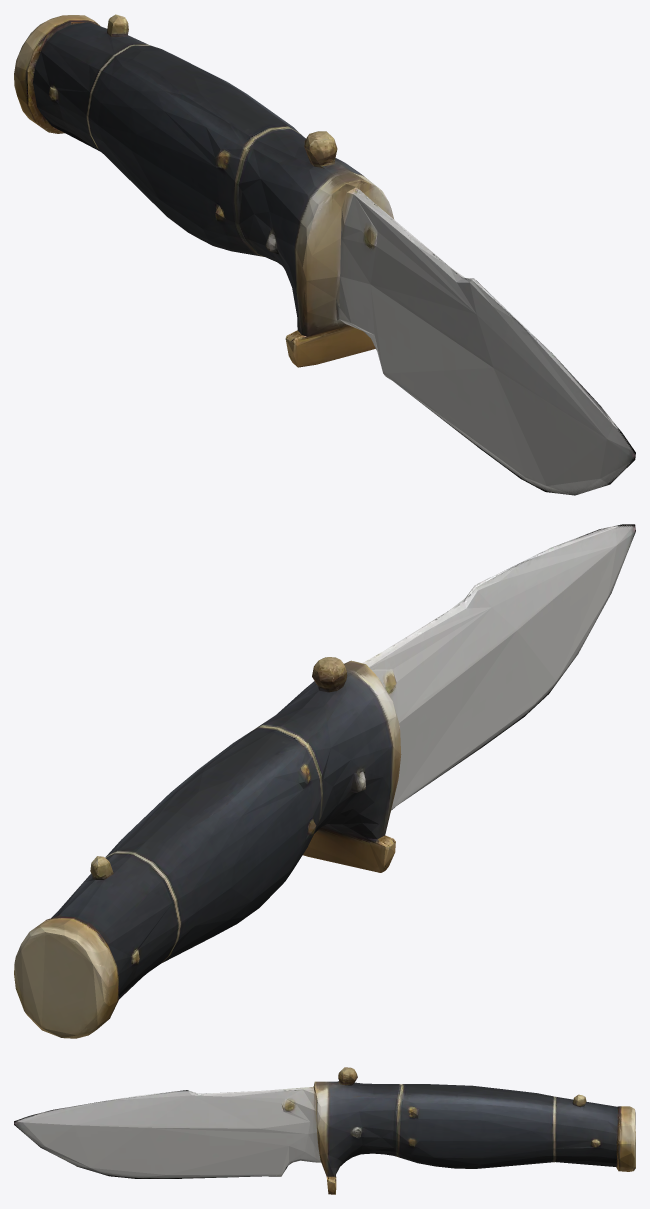
Rendered from black_throwing_knife.glb.
3 renders of one model, top to bottom at view 1: azimuth 30°, elevation 25°; view 2: azimuth 150°, elevation 25°; view 3: azimuth 270°, elevation 25°, orthographic. The views are drawn at different scales.
Parts seen in each view (by area): view 1: geometry_0; view 2: geometry_0; view 3: geometry_0.
Boxes of the visible parts, <box> form: geometry_0: <box>14,14,635,495</box>; geometry_0: <box>14,524,635,1038</box>; geometry_0: <box>14,1067,635,1194</box>.
Bounding box in the file's own units: 0.1003 × 0.2052 × 0.9993.
Materials: 1 (1 with a texture image).
